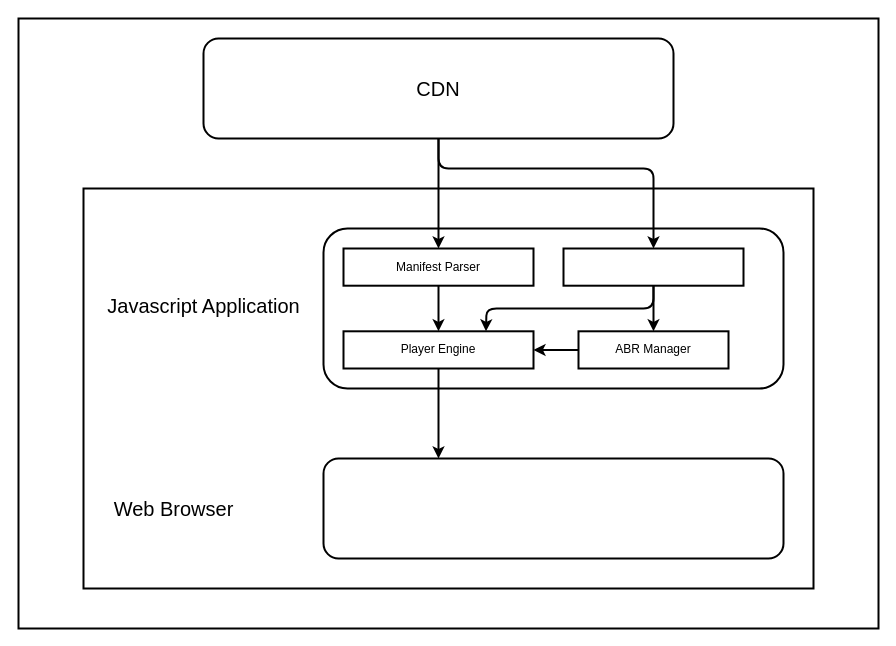
Image size: 896x646. Some labels were removed from this diagram. Here are the shapes that lost their labels. From the top down, the centre of each, then its label:
At pixel 653 266: "Segment Downloader".
At pixel 553 508: "MSE API".
